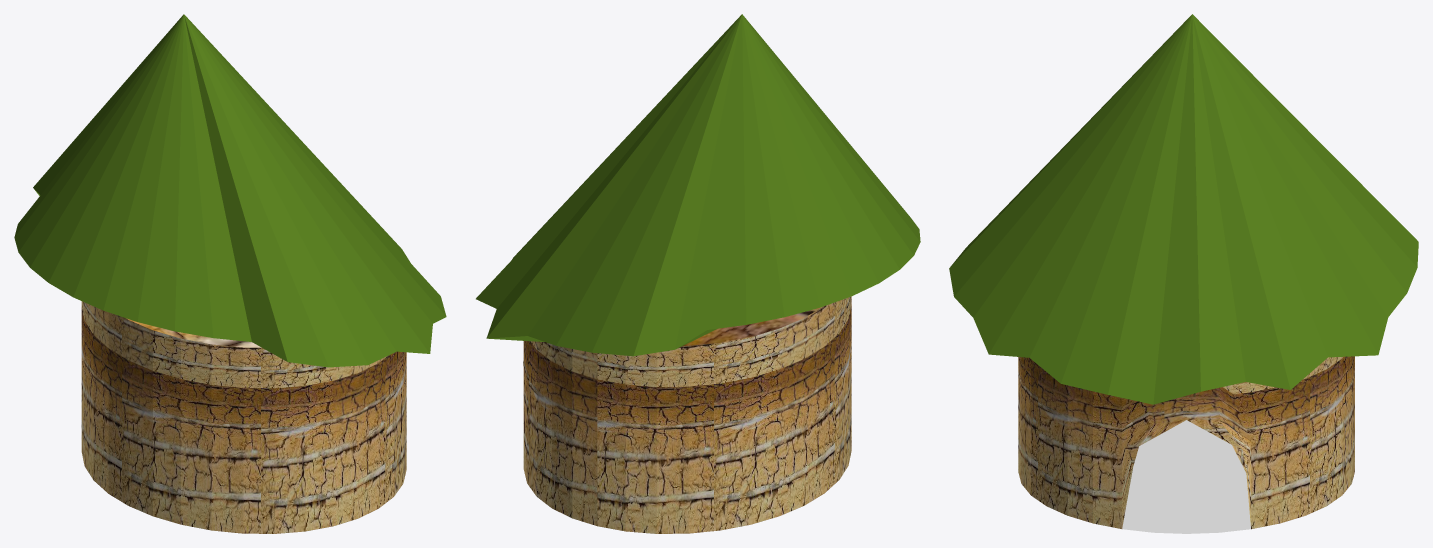
File: oca 3d copia (1).fbx
The picture shows the model from 3 angles, left to right: view 1: azimuth 30°, elevation 25°; view 2: azimuth 150°, elevation 25°; view 3: azimuth 270°, elevation 25°; orthographic projection. The views are drawn at different scales.
Parts seen in each view (by area): view 1: Cone, Cilindro; view 2: Cone, Cilindro; view 3: Cone, Cilindro.
Boxes of the visible parts, left/top/right/bottom form: Cone: left=14, top=14, right=446, bottom=367; Cilindro: left=81, top=301, right=406, bottom=533; Cone: left=476, top=14, right=920, bottom=356; Cilindro: left=523, top=296, right=851, bottom=533; Cone: left=949, top=14, right=1418, bottom=404; Cilindro: left=1018, top=356, right=1354, bottom=533.
Size of the model in its own units: 415 by 493 by 486.
